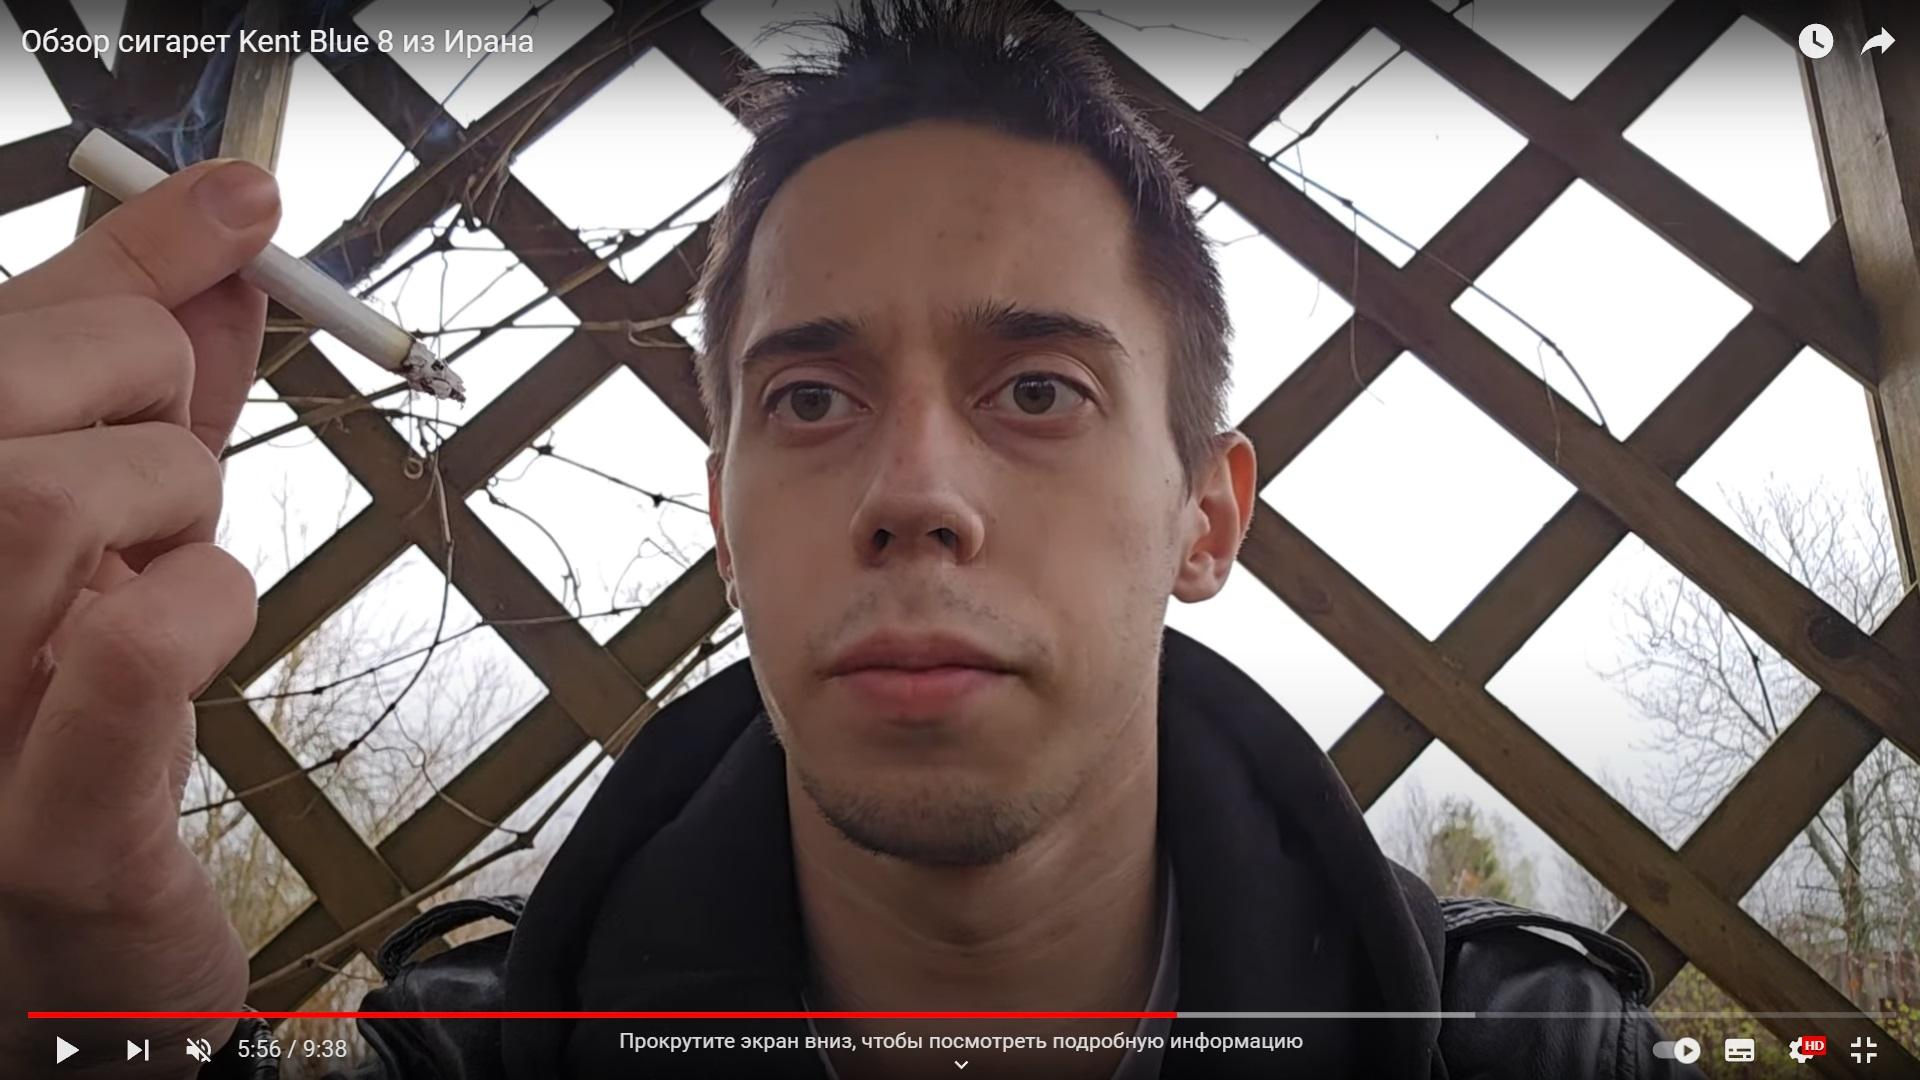cigarette: (66, 128, 467, 404)
